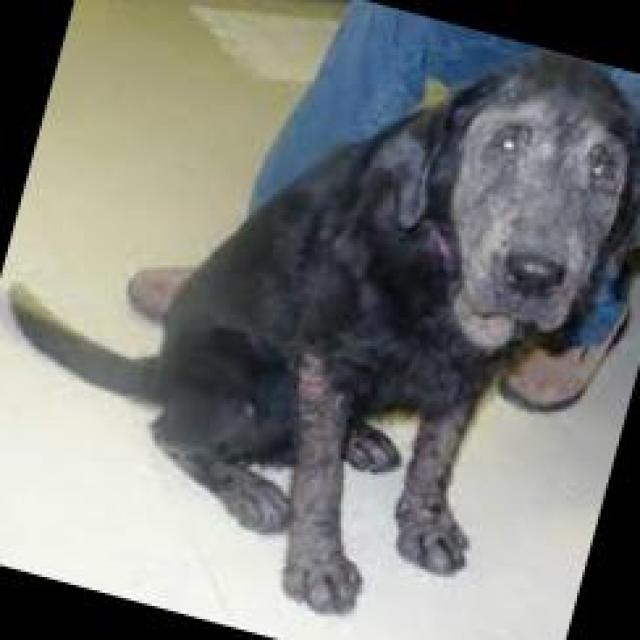fungal infection: (471, 114, 625, 233), (292, 369, 338, 570), (474, 236, 576, 313), (415, 404, 450, 540), (221, 470, 282, 522), (169, 426, 220, 472)
